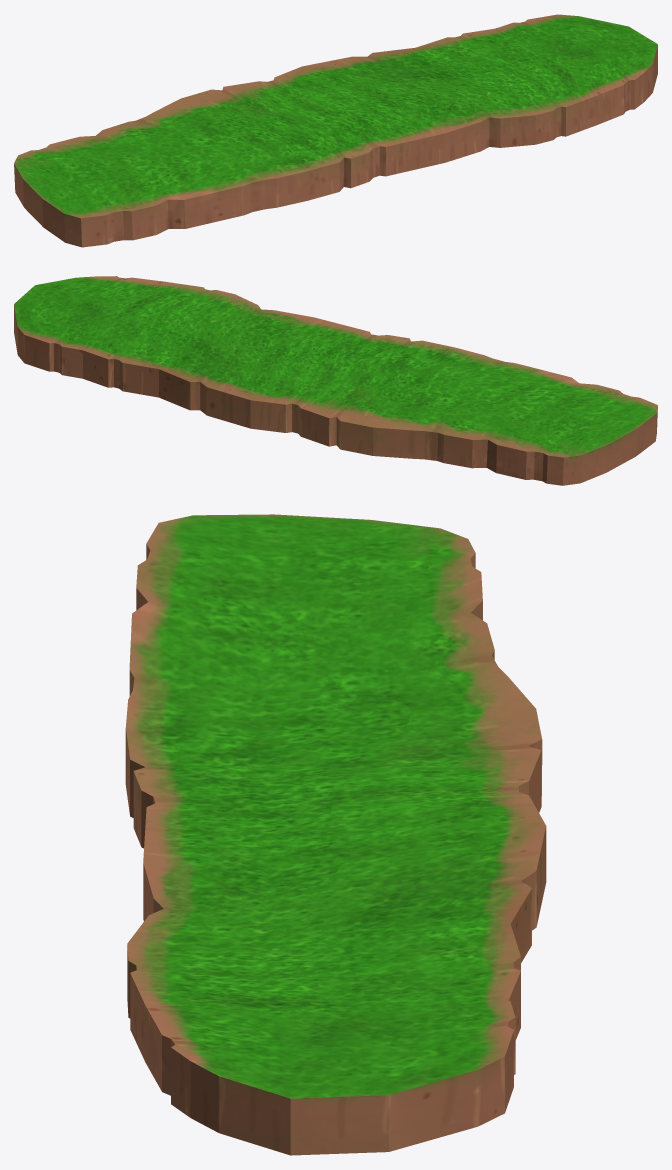
The model's file is ground_03.fbx.
3 views of the same model, one above another, from view 1: azimuth 30°, elevation 25°; view 2: azimuth 150°, elevation 25°; view 3: azimuth 270°, elevation 25° (orthographic). The views are drawn at different scales.
Parts seen in each view (by area): view 1: ground_03; view 2: ground_03; view 3: ground_03.
Boxes of the visible parts, x1=… form: ground_03: x1=14, y1=14, x2=657, y2=247; ground_03: x1=14, y1=276, x2=657, y2=485; ground_03: x1=125, y1=514, x2=546, y2=1155.
Size of the model in its own units: 7.69 by 2.34 by 0.3499.
